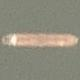ship: (0, 0, 40, 16)
